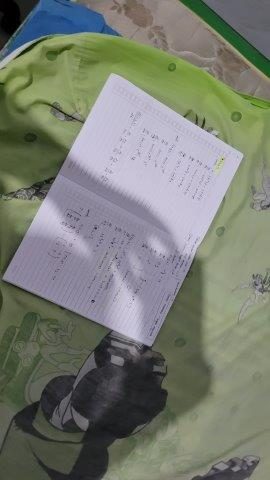kertas: (4, 73, 245, 348)
